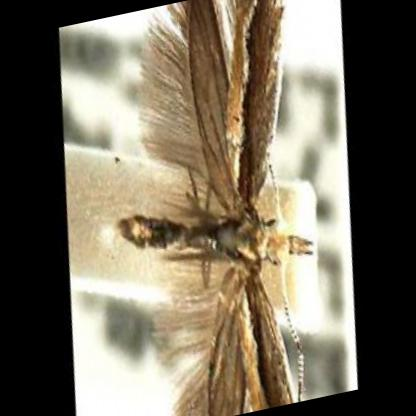plutella: (119, 0, 317, 416)
